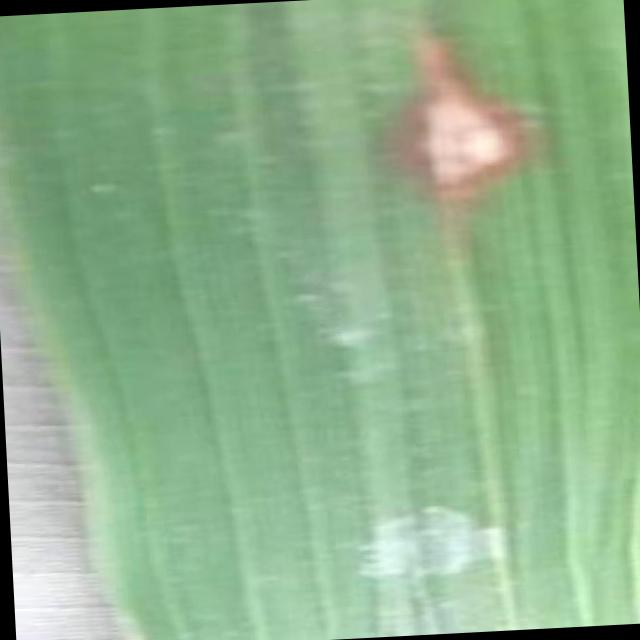Rice_Blast: (377, 14, 548, 231)
